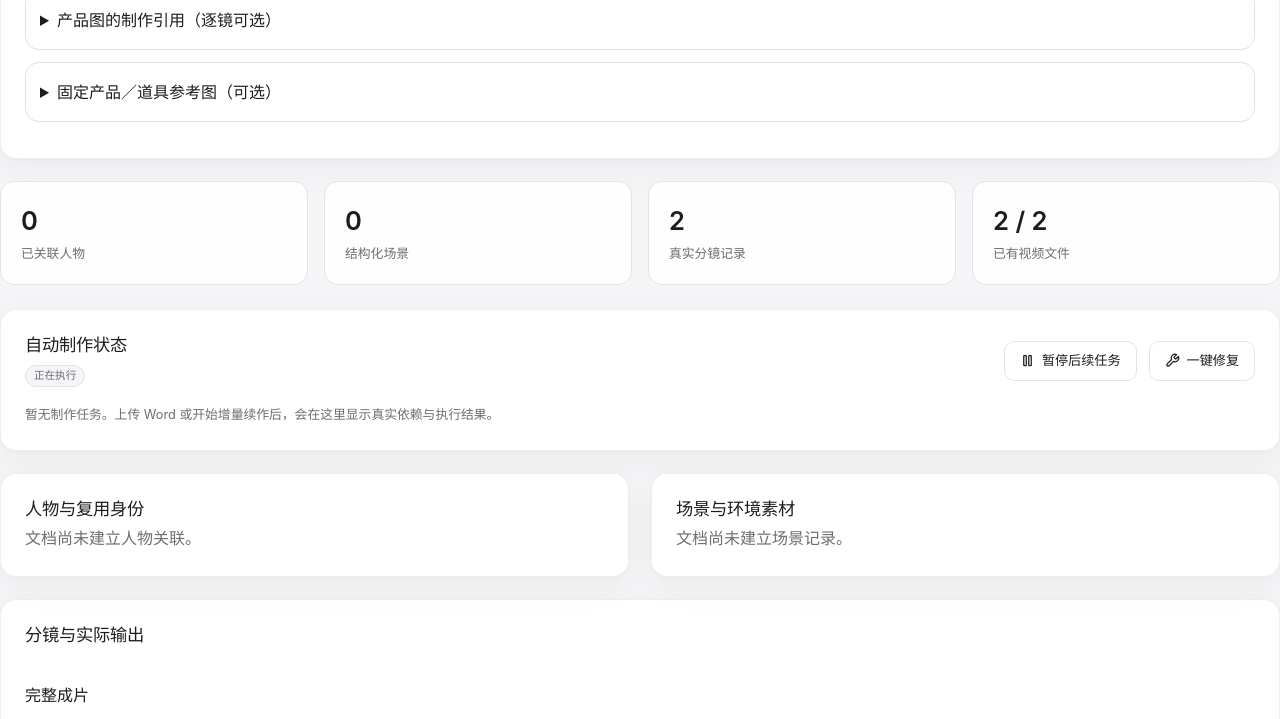
Test: Studio UI contracts › shows a missing repair endpoint beside the controls so the click never appears to do nothing
(page scrolled)
Click the button "一键修复": click(1202, 361) x1=1148 y1=341 x2=1255 y2=381
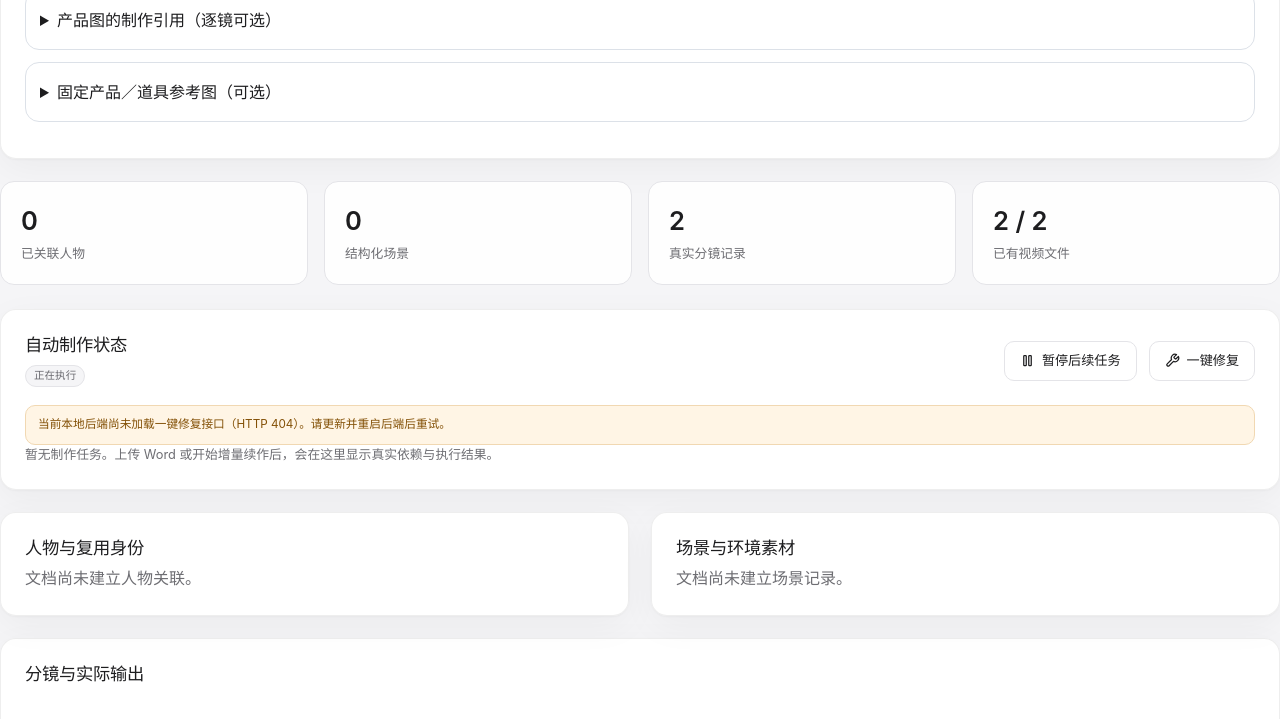
Now the text "当前本地后端尚未加载一键修复接口（HTTP 404）。请更新并重启后端后重试。" is shown, box x1=25 y1=405 x2=1255 y2=445
